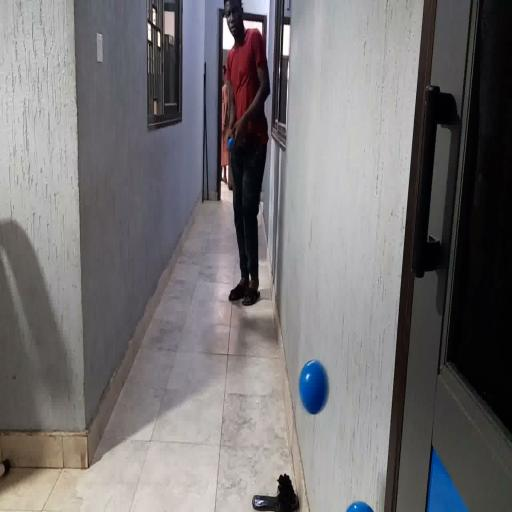plastic-ball: (299, 360, 328, 414), (347, 502, 373, 511)
